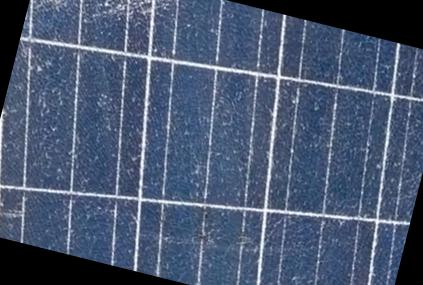Crack: (88, 0, 177, 38)
